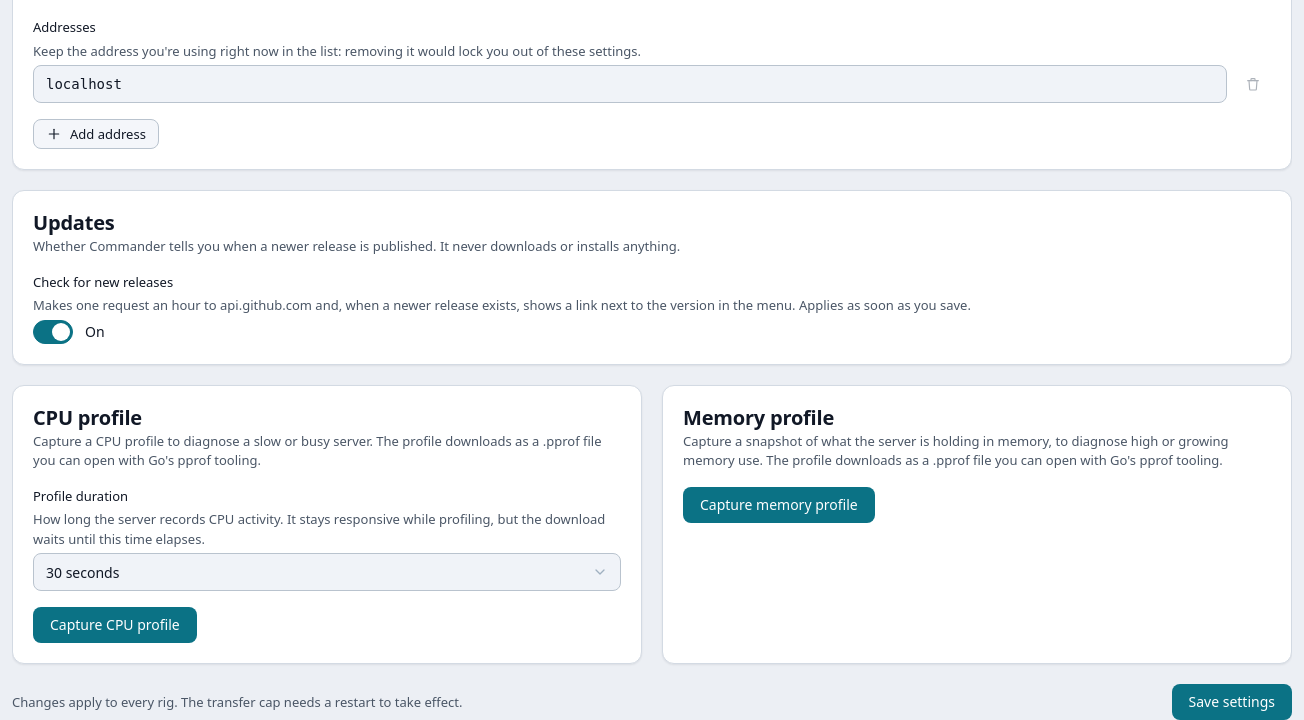
Test: Settings memory profile › shows the server's error and re-enables the button
(page scrolled)
Click the button "Capture memory profile".
click(779, 505)  # box x1=683 y1=487 x2=875 y2=523
(page scrolled)
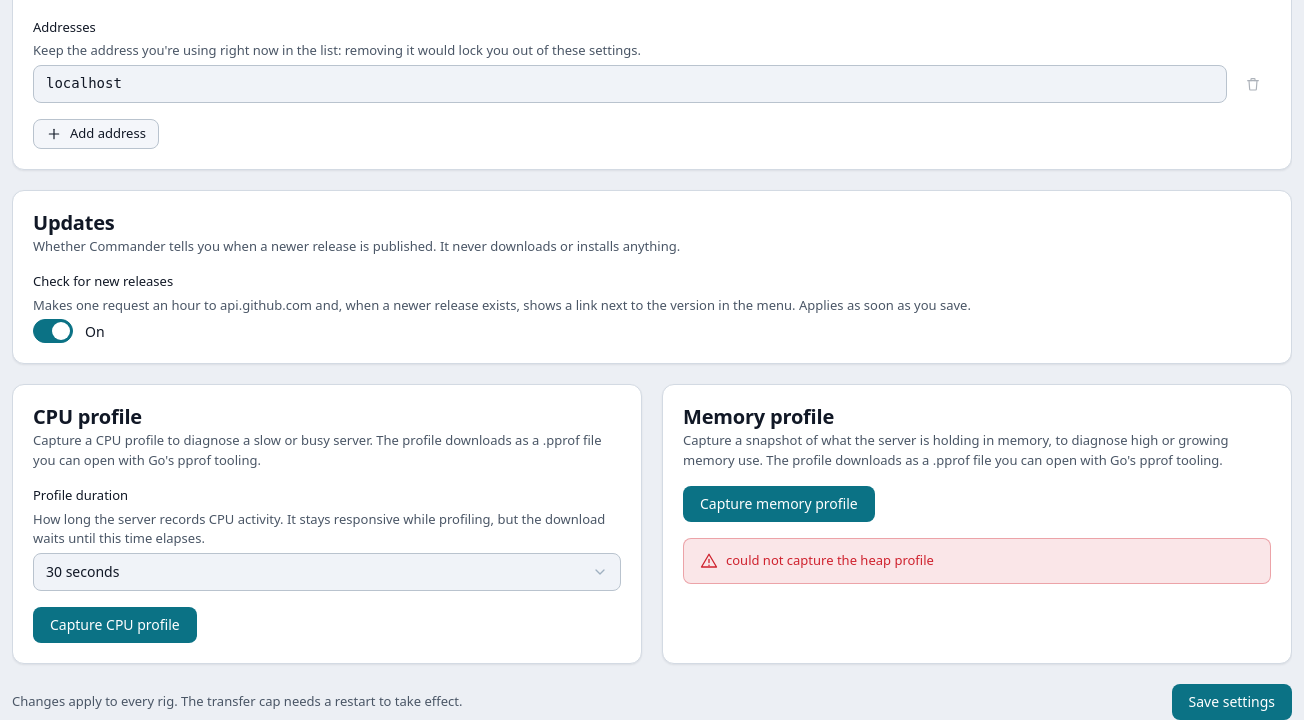
Expected: the text "could not capture the heap profile" is shown, x1=683 y1=538 x2=1271 y2=584
